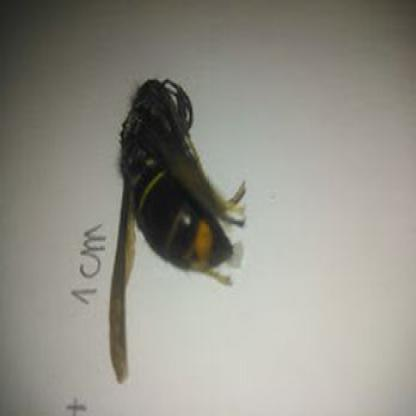Asian Hornet: (104, 73, 246, 386)
